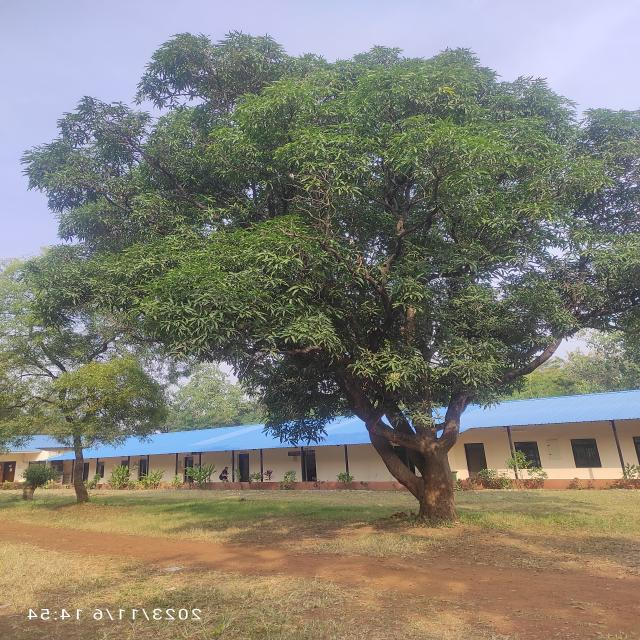Mango Tree: (87, 34, 640, 361)
Neem Tree: (1, 264, 135, 458)
